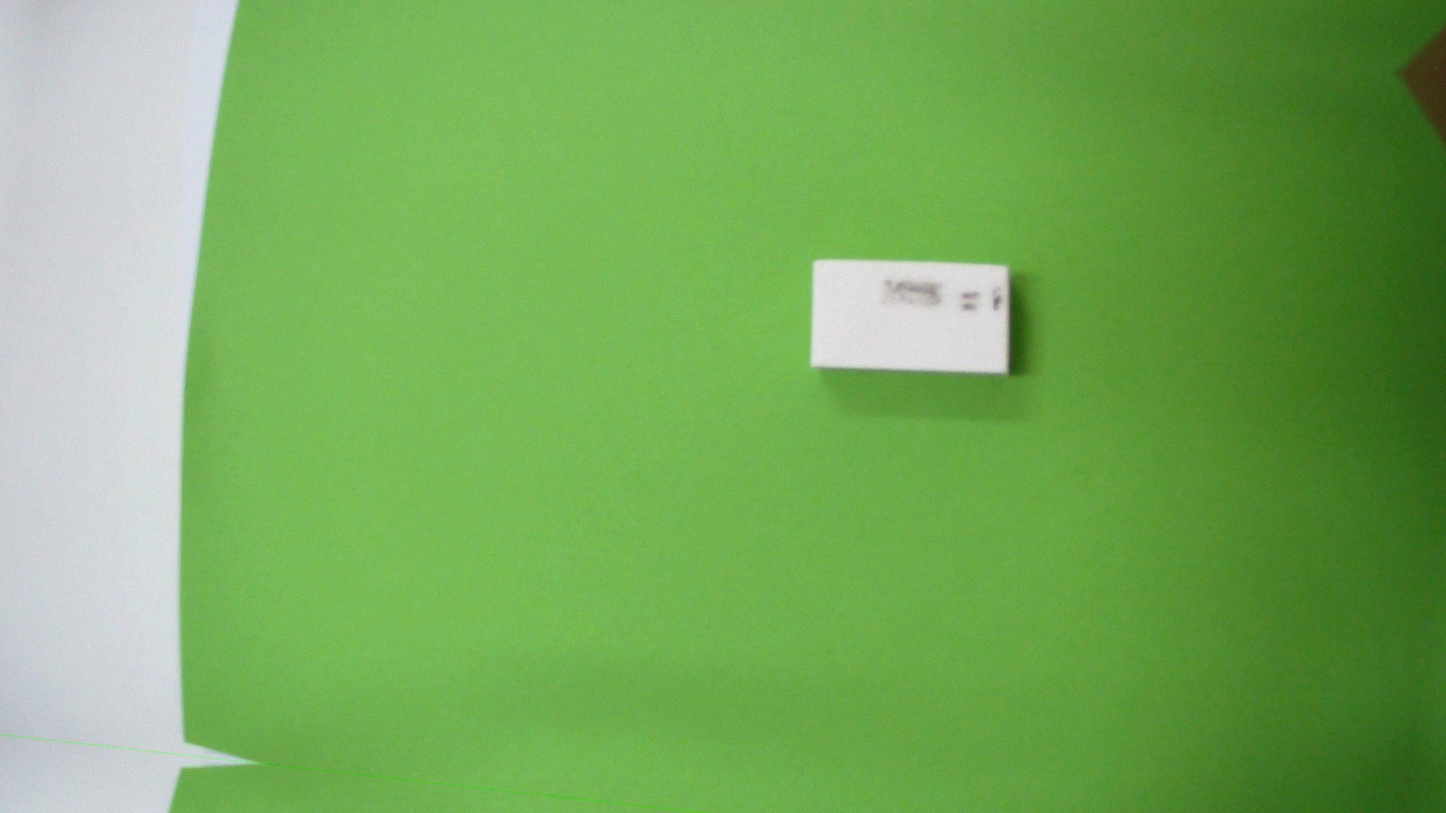gom: (800, 232, 1024, 399)
